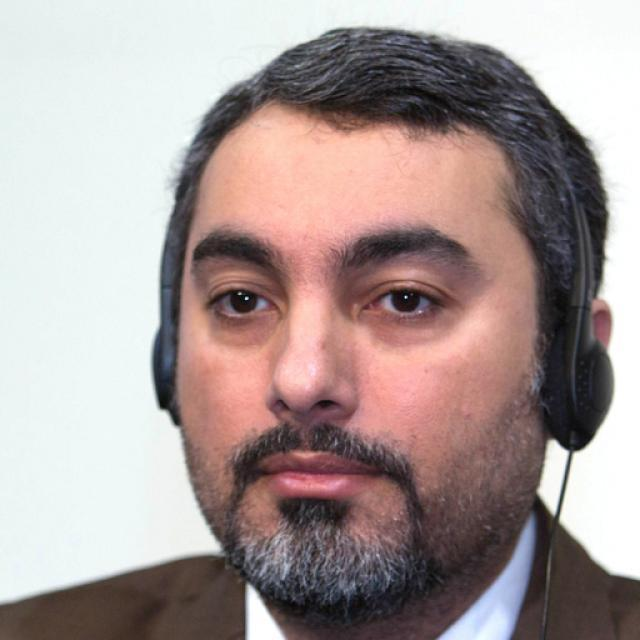neutral: (175, 98, 545, 616)
